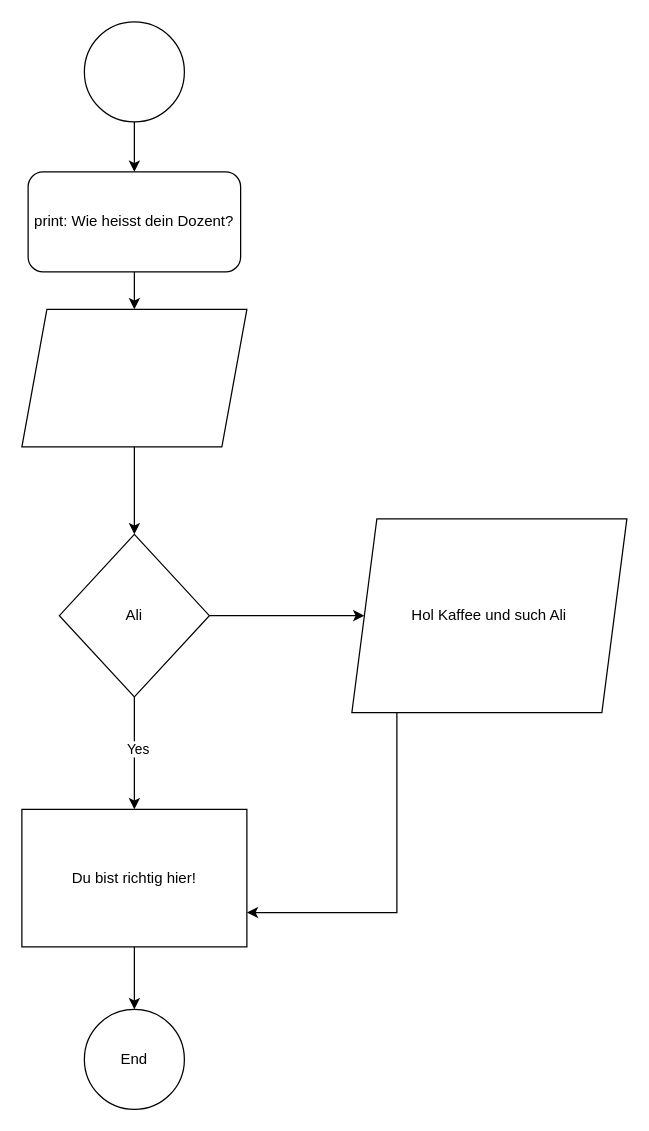
The diagram is 649 pixels wide and 1131 high, and some of its shapes have lost their labels. The shapes that lost their labels are listed below. From the top down, each one's centre as x and y in pixels, then its label:
At point (133, 71): "Start".
At point (134, 377): "Input".
